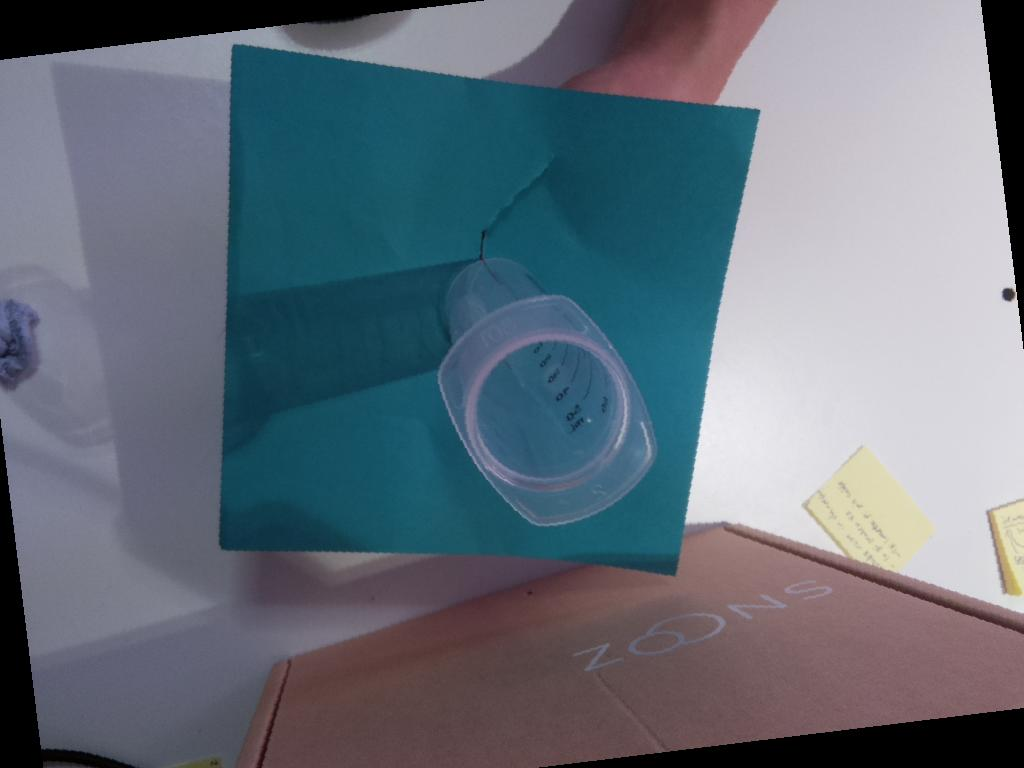clean: (433, 292, 660, 526)
